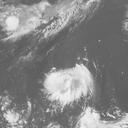cyclone: (43, 63, 94, 111)
